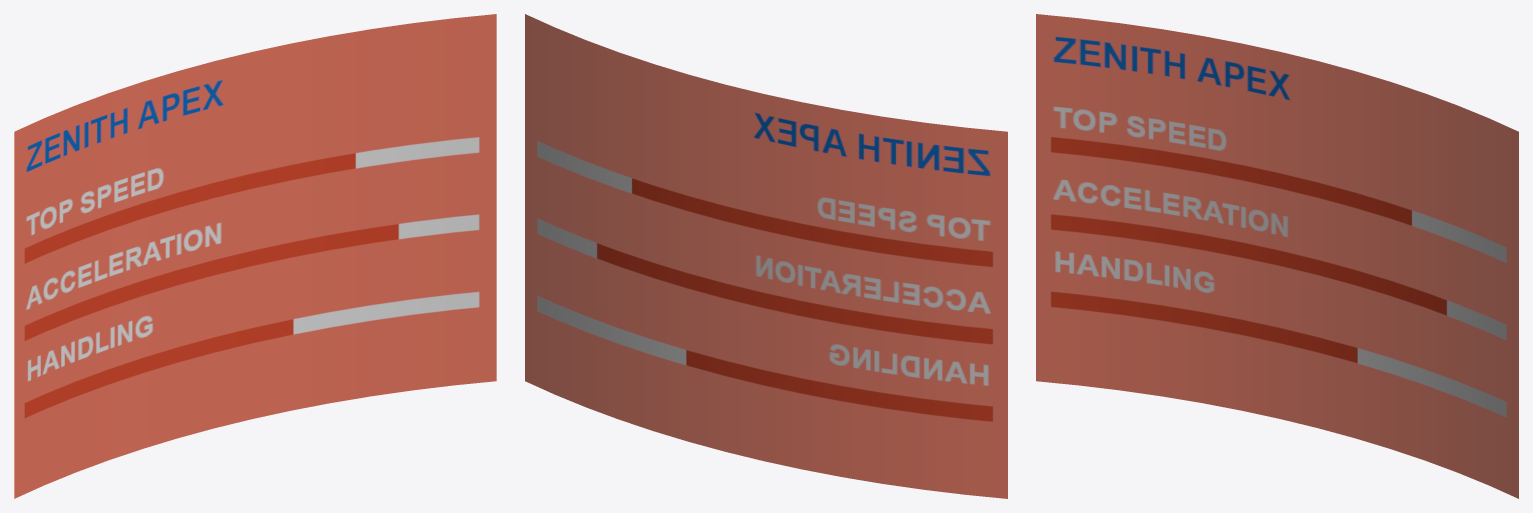
Rendered from specs_car1.glb.
3 renders of one model, left to right at view 1: azimuth 30°, elevation 25°; view 2: azimuth 150°, elevation 25°; view 3: azimuth 330°, elevation 25°, orthographic.
Parts seen in each view (by area): view 1: menu_5_carSpecs1; view 2: menu_5_carSpecs1; view 3: menu_5_carSpecs1.
Boxes of the visible parts, left/top/right/bottom form: menu_5_carSpecs1: left=14, top=14, right=496, bottom=498; menu_5_carSpecs1: left=525, top=14, right=1007, bottom=498; menu_5_carSpecs1: left=1036, top=14, right=1518, bottom=498.
Bounding box in the file's own units: 2.56 × 1.86 × 0.2045.
1 material, 1 textured.
